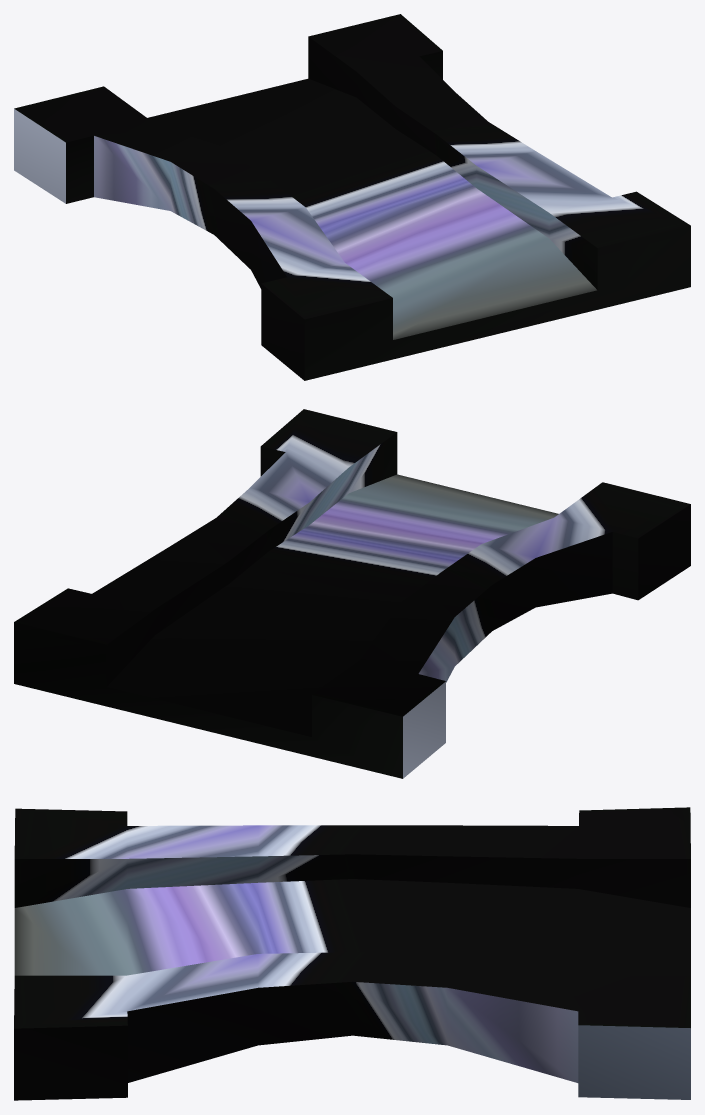
File: actor.obj
3 renders of one model, top to bottom at view 1: azimuth 30°, elevation 25°; view 2: azimuth 150°, elevation 25°; view 3: azimuth 270°, elevation 25°, orthographic. The views are drawn at different scales.
Visible parts, largest first — view 1: actor; view 2: actor; view 3: actor.
Boxes of the visible parts, x1,y1,x2,y2 form: actor: [14, 14, 690, 380]; actor: [14, 409, 690, 778]; actor: [14, 807, 690, 1100].
Size of the model in its own units: 122 by 22.2 by 158.
1 material, 1 textured.
